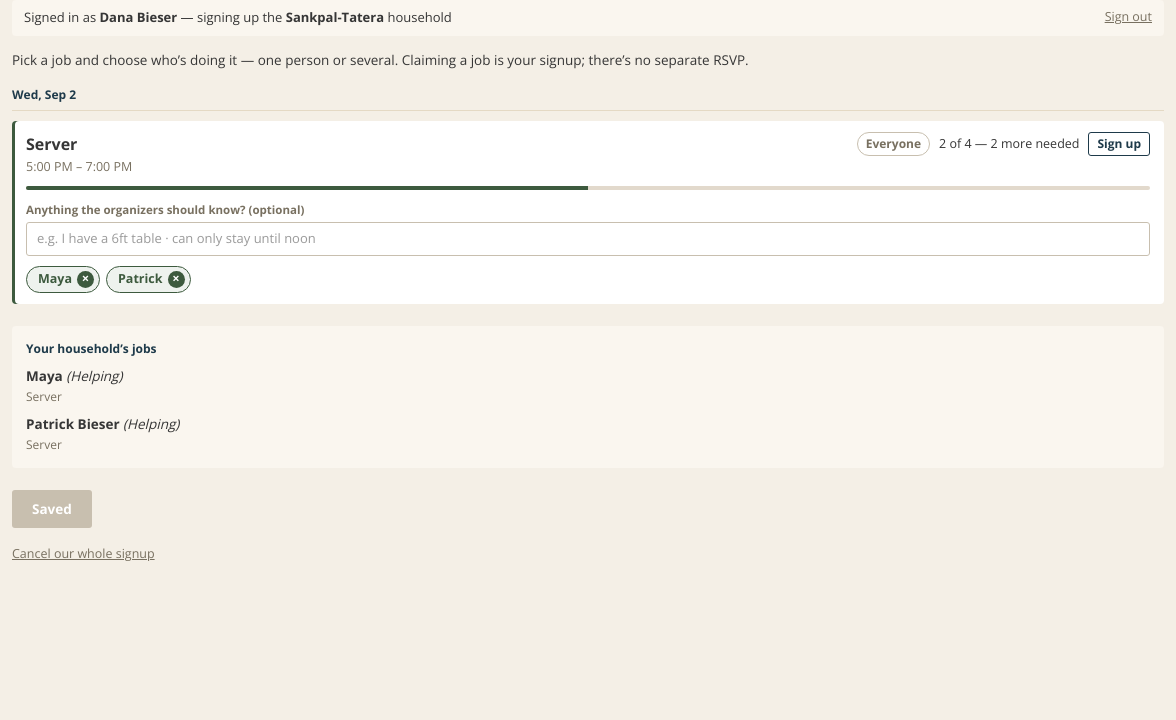
Test: slot-first form — saving edits › Save_IsDisabledUntilTheDraftDiffersFromWhatIsSaved
expect the button "Saved" is disabled: met, box [12,490,92,528]
expect the button "Saved" is shown: met, box [12,490,92,528]
Click the button named "Remove Patrick Bieser": (176, 279) [168,271,184,288]
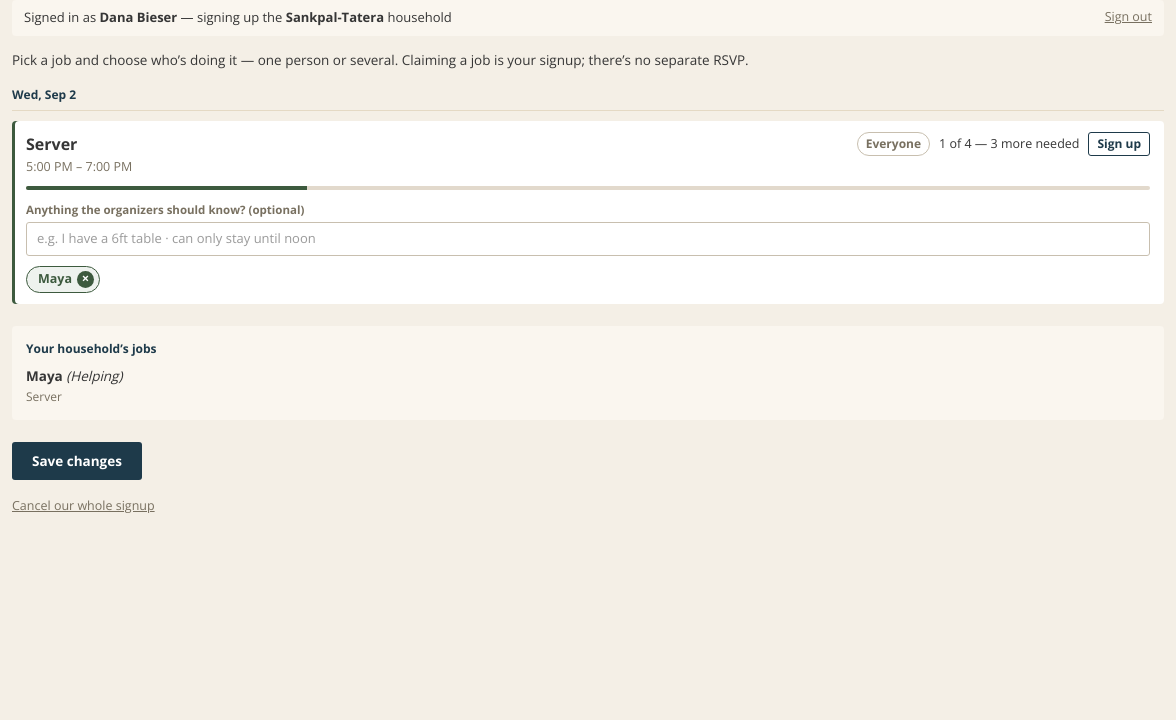
expect the button "Save changes" is enabled: met, box [12,442,142,480]
expect the button "Save changes" is shown: met, box [12,442,142,480]
